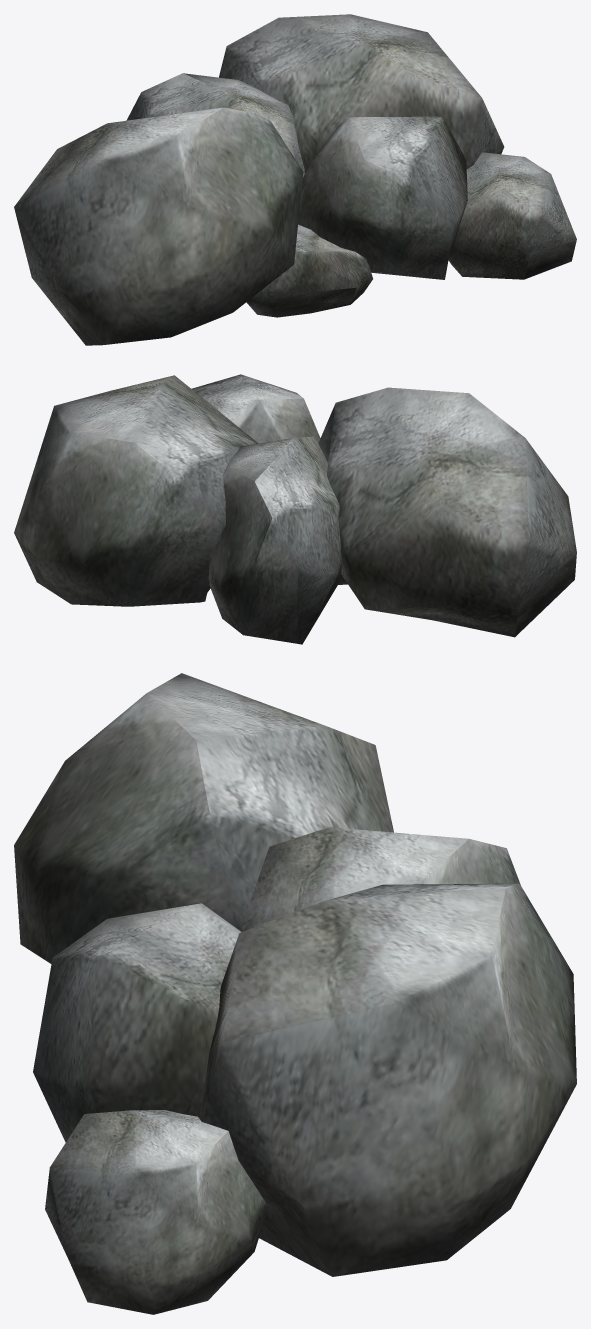
Rendered from pir_m_prp_rok_rubble_tunnel.fbx.
3 renders of one model, top to bottom at view 1: azimuth 30°, elevation 25°; view 2: azimuth 150°, elevation 25°; view 3: azimuth 270°, elevation 25°, orthographic. The views are drawn at different scales.
Visible parts, largest first — view 1: rock_01, rock_05, rock_02, rock_06, rock_03, rock_04; view 2: rock_01, rock_05, rock_04, rock_02; view 3: rock_05, rock_01, rock_06, rock_02, rock_04.
Boxes of the visible parts, x1,y1,x2,y2 form: rock_01: [14, 107, 303, 345]; rock_05: [219, 14, 504, 172]; rock_02: [298, 116, 467, 279]; rock_06: [448, 152, 576, 279]; rock_03: [246, 224, 372, 317]; rock_04: [126, 73, 305, 177]; rock_01: [318, 387, 576, 637]; rock_05: [14, 375, 258, 606]; rock_04: [208, 436, 342, 644]; rock_02: [191, 374, 320, 443]; rock_05: [198, 883, 576, 1276]; rock_01: [14, 673, 393, 963]; rock_06: [45, 1110, 266, 1314]; rock_02: [33, 903, 241, 1142]; rock_04: [241, 827, 520, 931].
Bounding box in the file's own units: 1292 × 525 × 796.
Materials: 1 (1 with a texture image).
